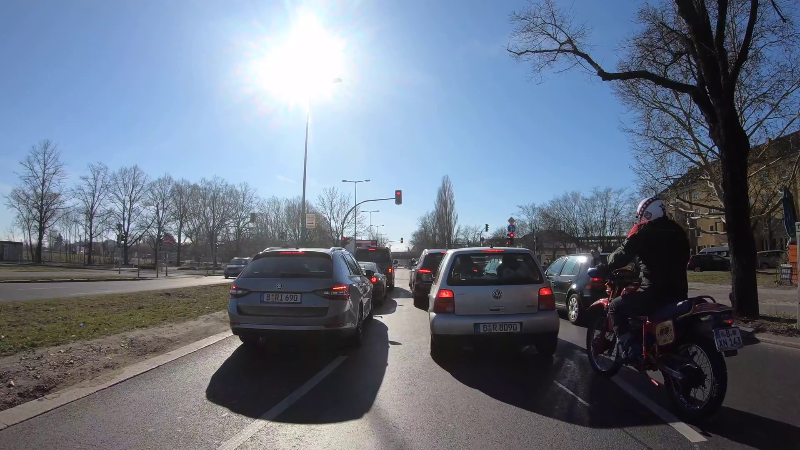Plate: (472, 319, 527, 333), (257, 290, 303, 304)
